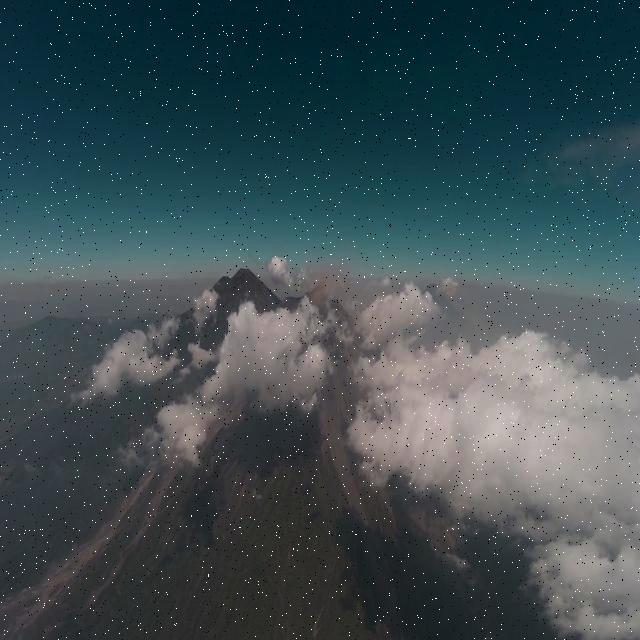Summit: (302, 282, 336, 300)
